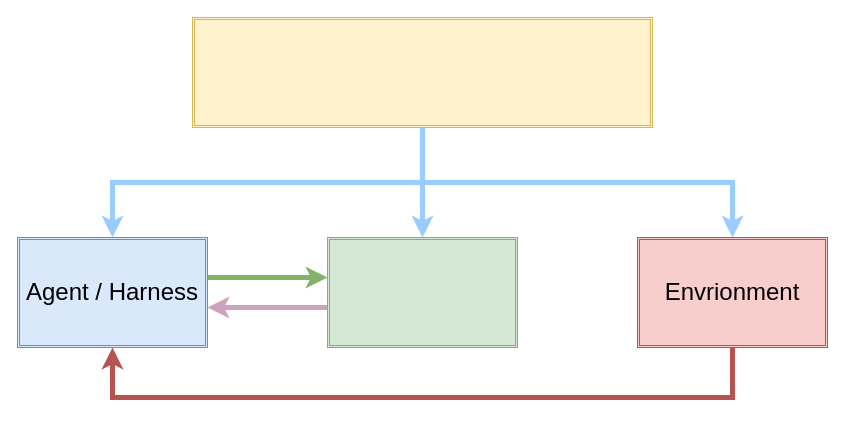
Some shapes in this 845 by 425 pixel diagram are drawn without their labels. The centre of each missing label's shape, as x and y in pixels:
"Entrance mini.py / hellow_world.py /swebench.py" belongs at point 422,72.
"LLM" belongs at point 422,292.
